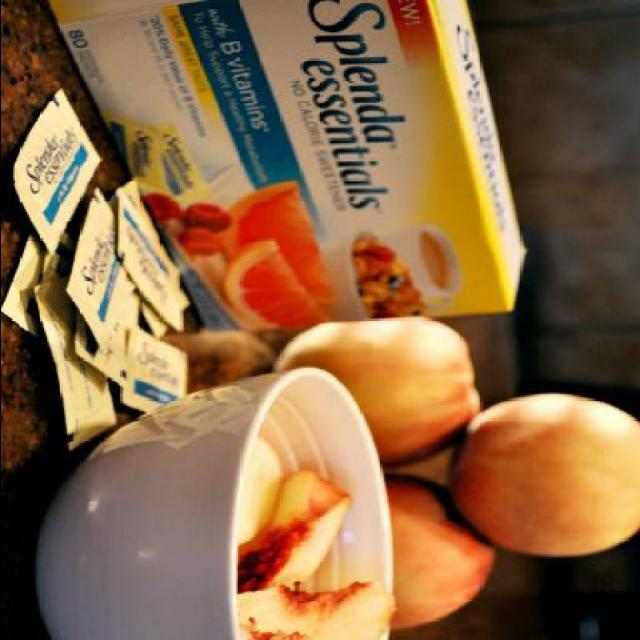Peach: (443, 392, 640, 556), (270, 317, 481, 468), (389, 473, 497, 630), (238, 468, 354, 592), (236, 580, 396, 640), (236, 436, 286, 544)
